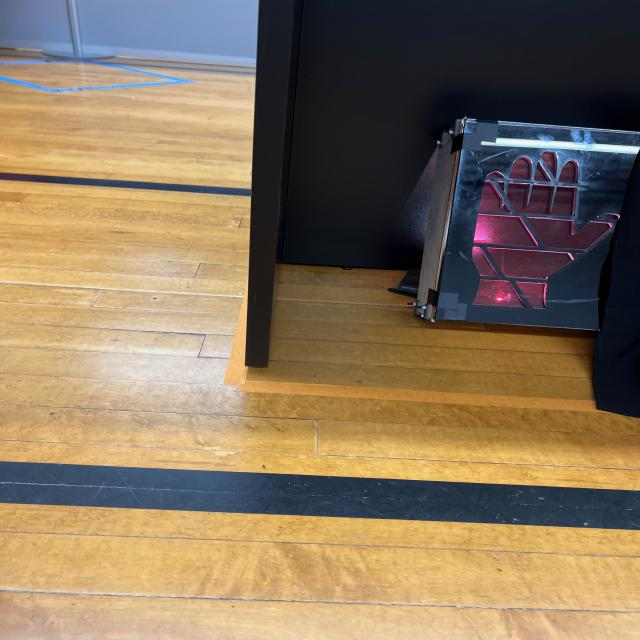stop: (437, 123, 639, 332)
